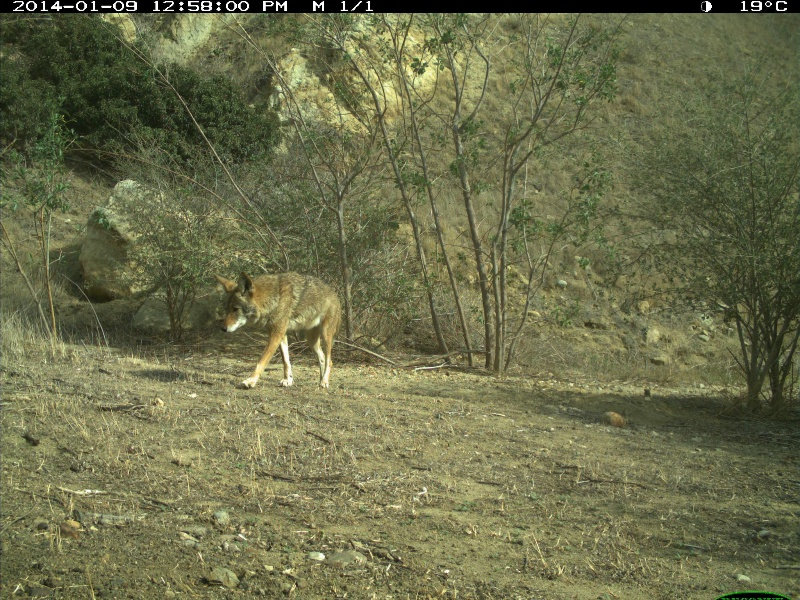coyote: (214, 267, 345, 399)
